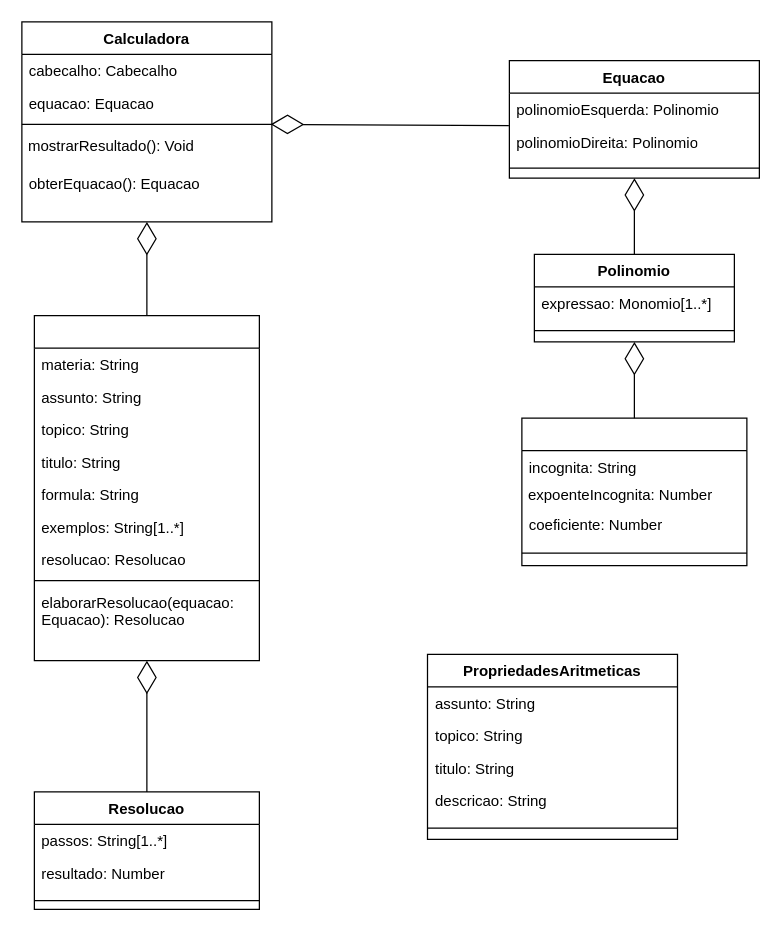
The diagram is 781 pixels wide and 931 high, and some of its shapes have lost their labels. Each missing label, with the box of its shape:
Cabecalho: (33, 314, 259, 661)
Monomio: (521, 417, 747, 566)
